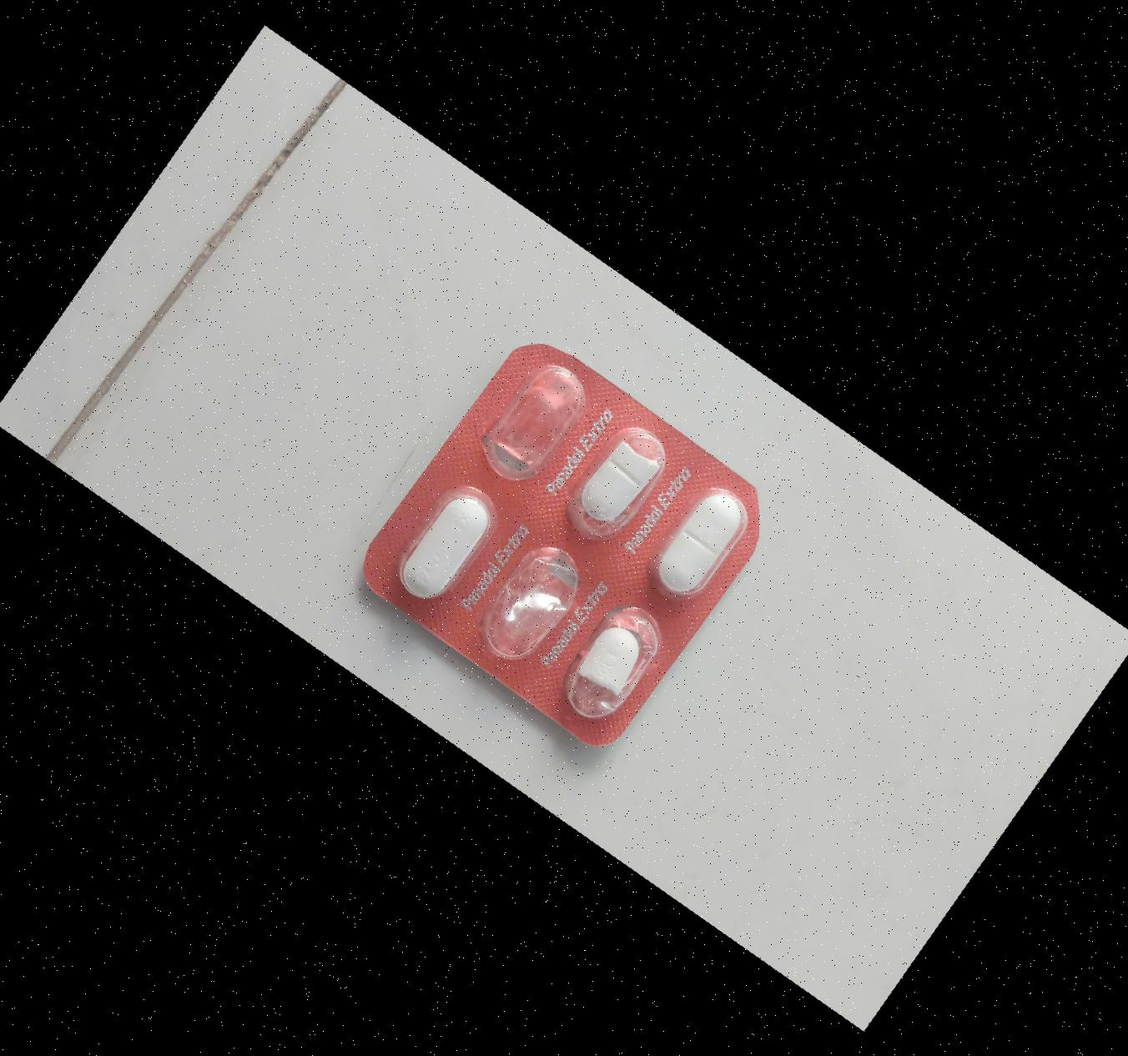Empty: (464, 522, 605, 677), (475, 351, 615, 506)
Full: (632, 459, 773, 615), (381, 468, 521, 624)
Partial: (540, 588, 681, 743), (548, 400, 688, 555)
